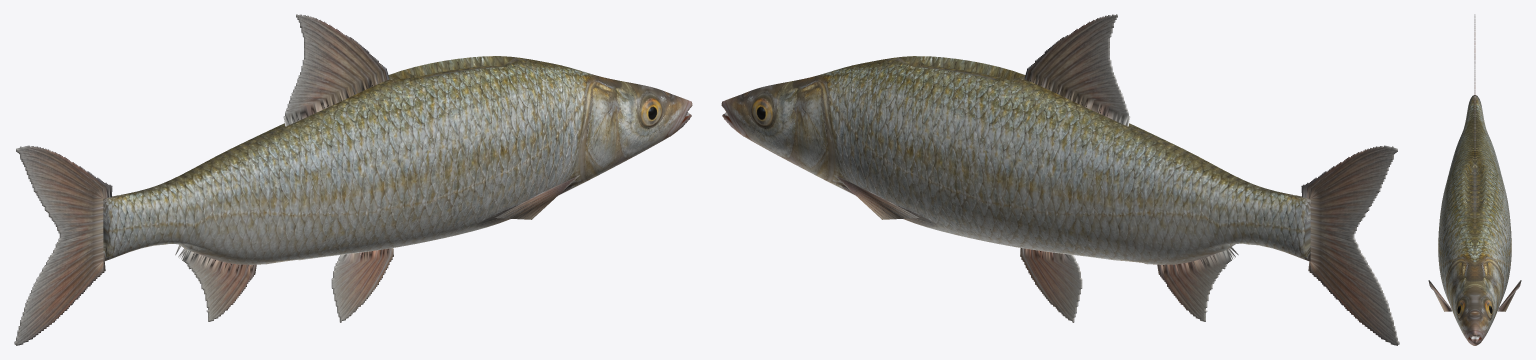
File: dace.glb
3 views of the same model, side by side, from view 1: azimuth 30°, elevation 25°; view 2: azimuth 150°, elevation 25°; view 3: azimuth 270°, elevation 25° (orthographic). The views are drawn at different scales.
Parts seen in each view (by area): view 1: dace_realistic.003; view 2: dace_realistic.003; view 3: dace_realistic.003.
Part boxes in pixels (left/top/right/bottom): dace_realistic.003: left=14, top=14, right=692, bottom=345; dace_realistic.003: left=721, top=14, right=1399, bottom=345; dace_realistic.003: left=1428, top=14, right=1521, bottom=345.
Bounding box in the file's own units: 1 × 0.4503 × 0.1671.
Materials: 3 (3 with a texture image).
